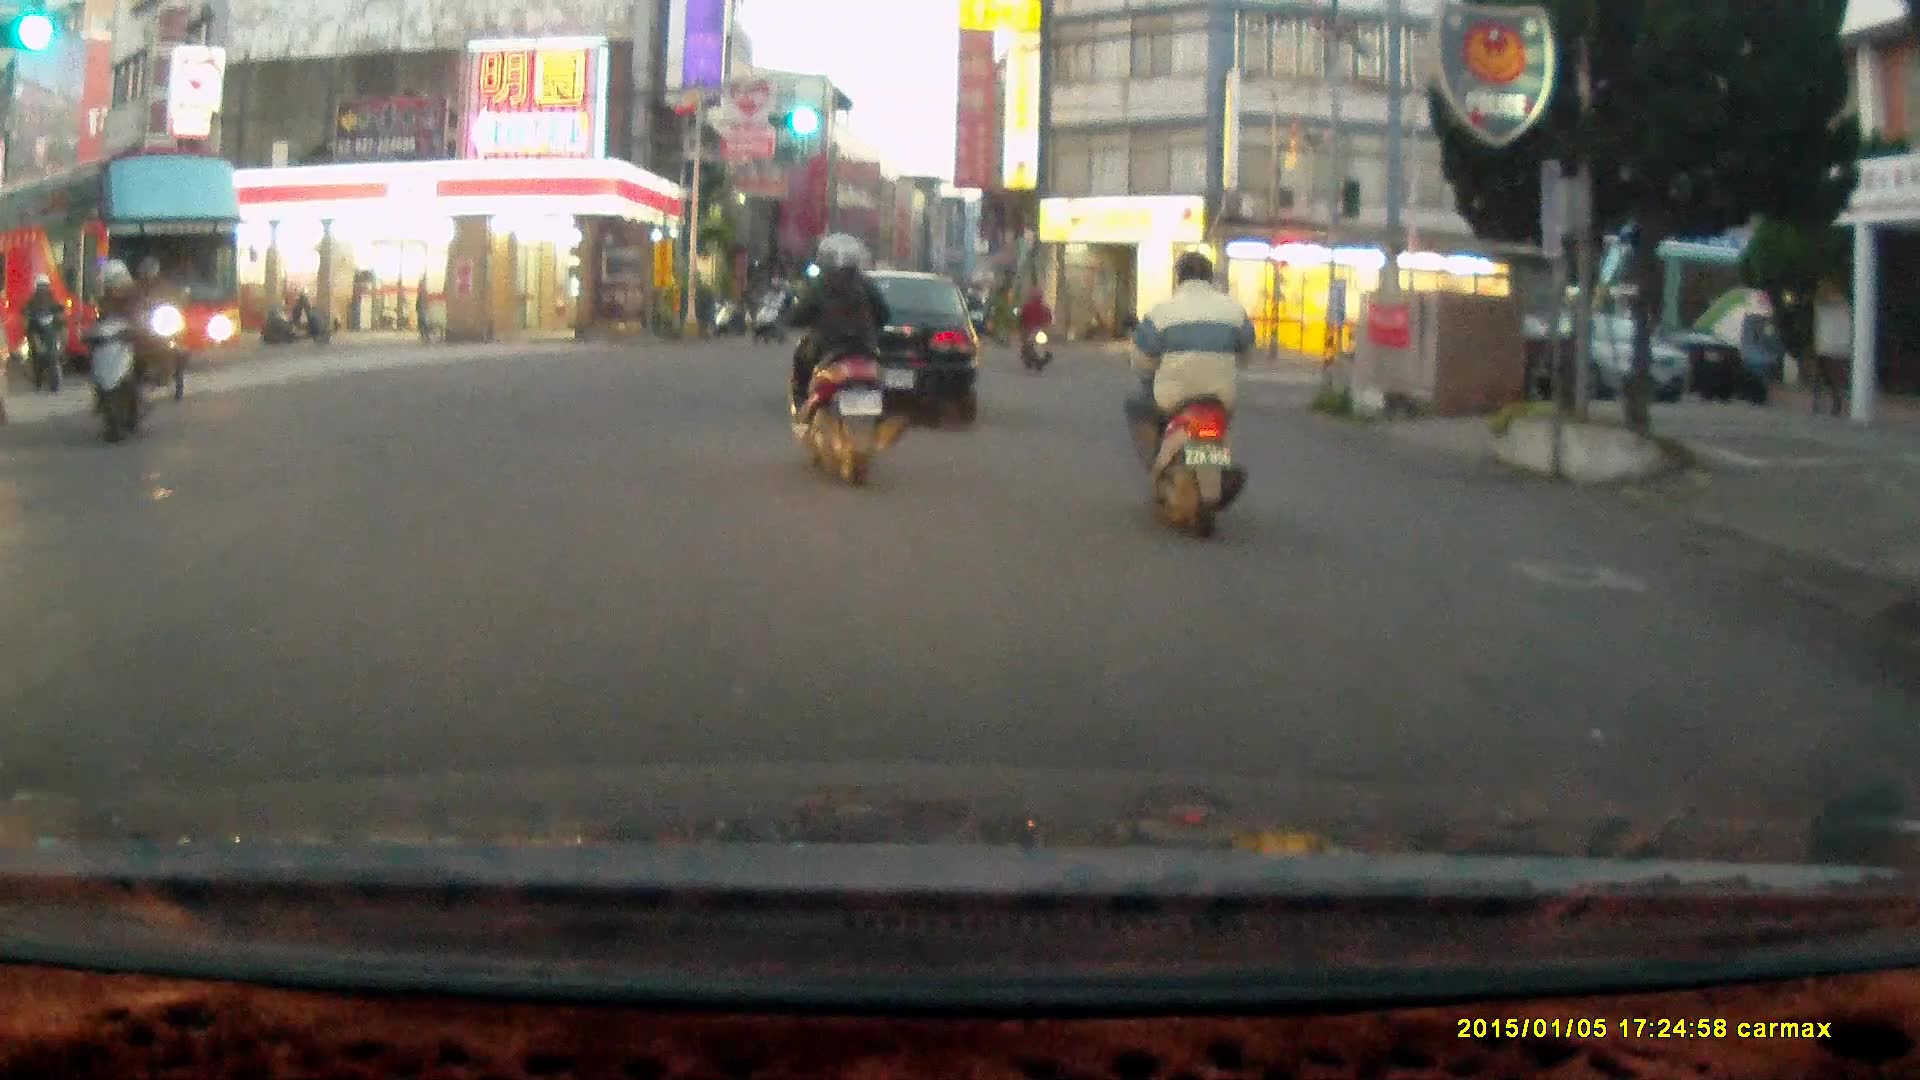rider: (1121, 253, 1250, 547), (777, 228, 910, 492), (75, 254, 156, 445), (115, 252, 181, 409), (17, 269, 66, 393), (1012, 291, 1053, 374), (754, 276, 794, 345)
vehicle: (1, 152, 239, 380), (1481, 311, 1696, 409)
